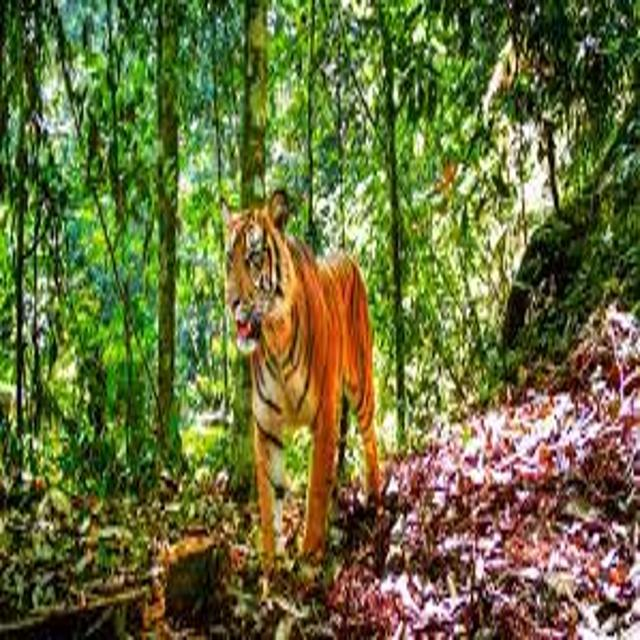tiger: (172, 159, 446, 605)
